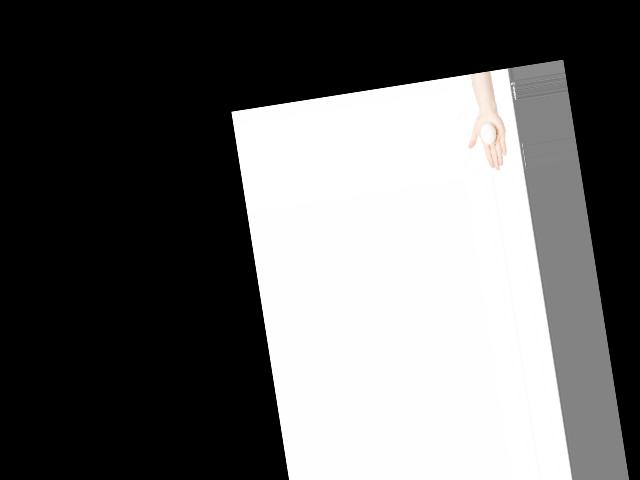egg: (480, 122, 497, 145)
